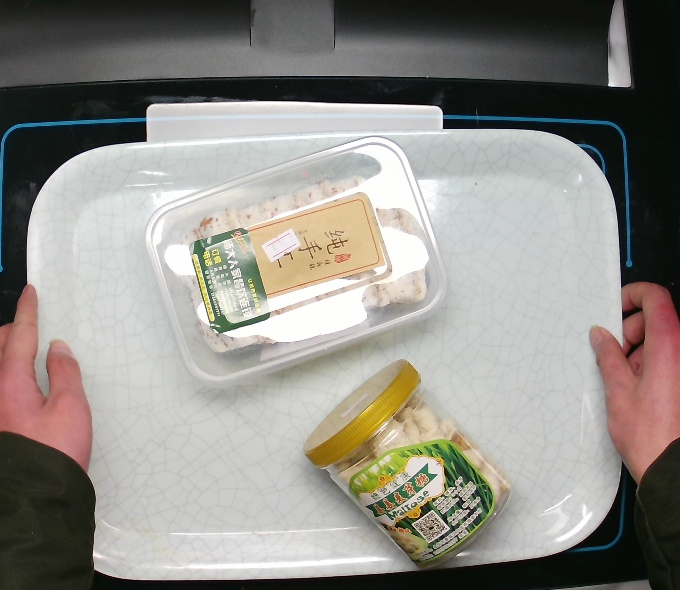wcq-GuiHuaGao: (140, 134, 456, 389)
wcq-MaiYaTang: (297, 354, 514, 569)
